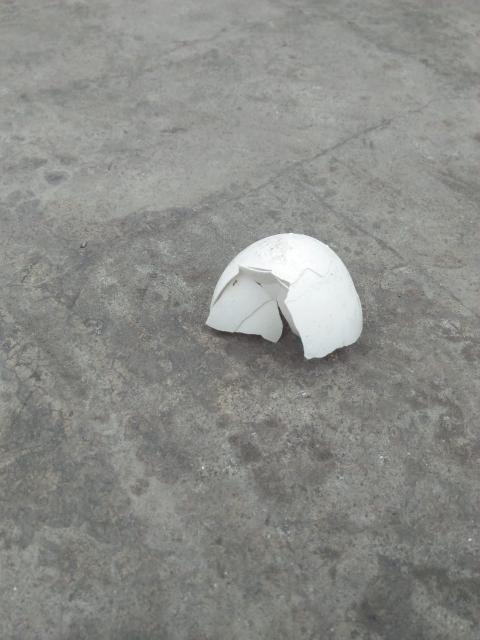Roto: (204, 231, 364, 360)
